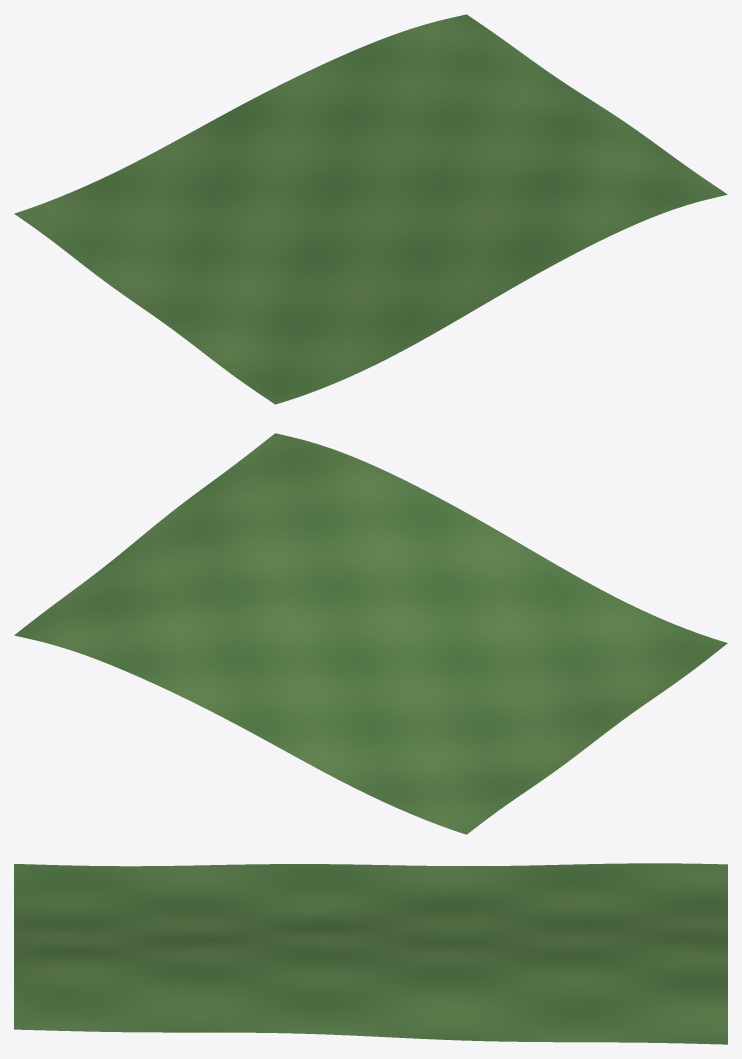
File: chunk_12_6.glb
3 renders of one model, top to bottom at view 1: azimuth 30°, elevation 25°; view 2: azimuth 150°, elevation 25°; view 3: azimuth 270°, elevation 25°, orthographic. The views are drawn at different scales.
Bounding box in the file's own units: 512 × 110 × 512.
